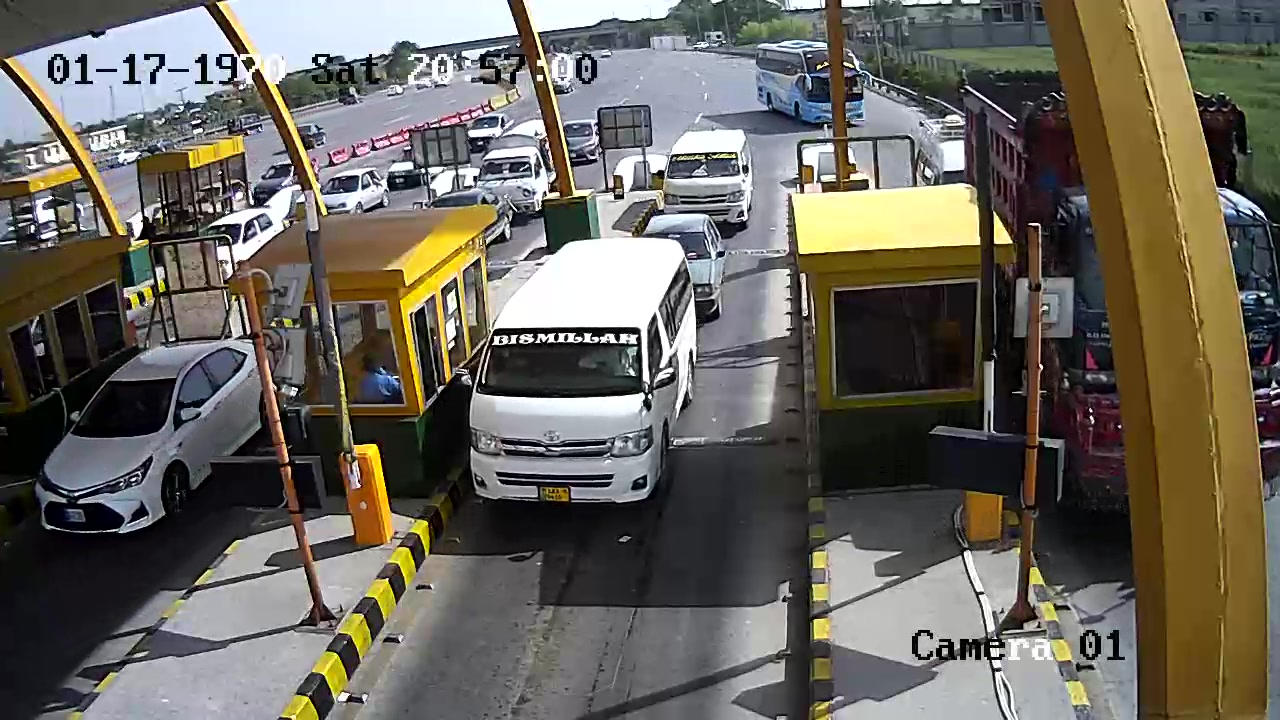F3: (464, 235, 704, 515)
